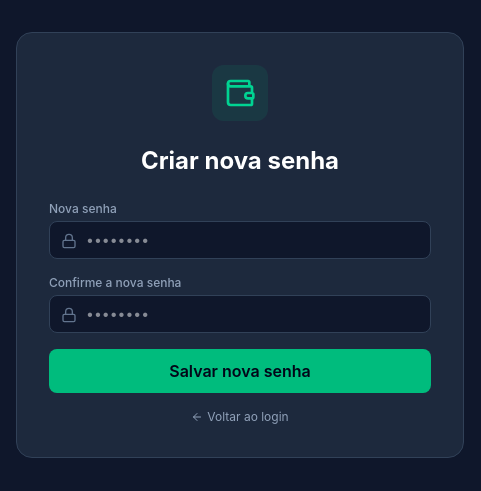
Test case: Recuperação de senha › bloqueia senha com menos de 8 caracteres
Type "curta" into the password field labelled "Nova senha" at (240, 240), box [49,221,431,259]
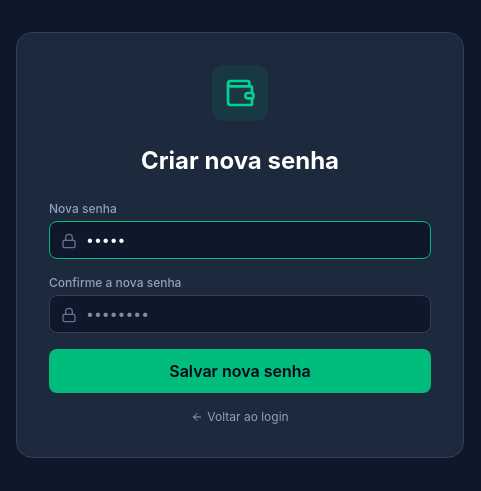
Type "curta" into the password field labelled "Confirme a nova senha" at (240, 314), box [49,295,431,333]
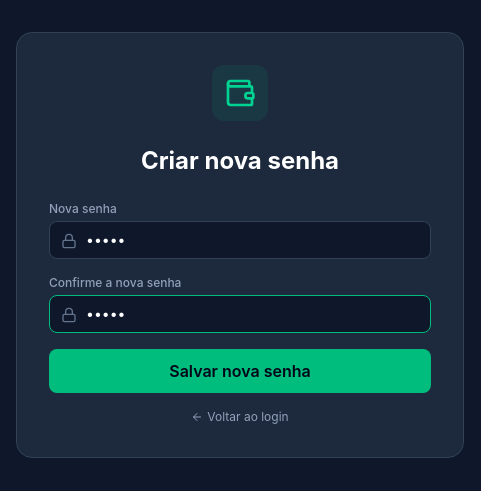
Click the button "Salvar nova senha" at (240, 371), box [49,349,431,393]
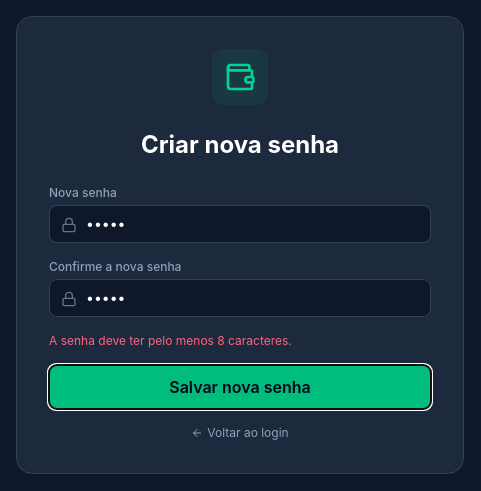
Check: the message shows "pelo menos 8", box [49,333,292,348]
